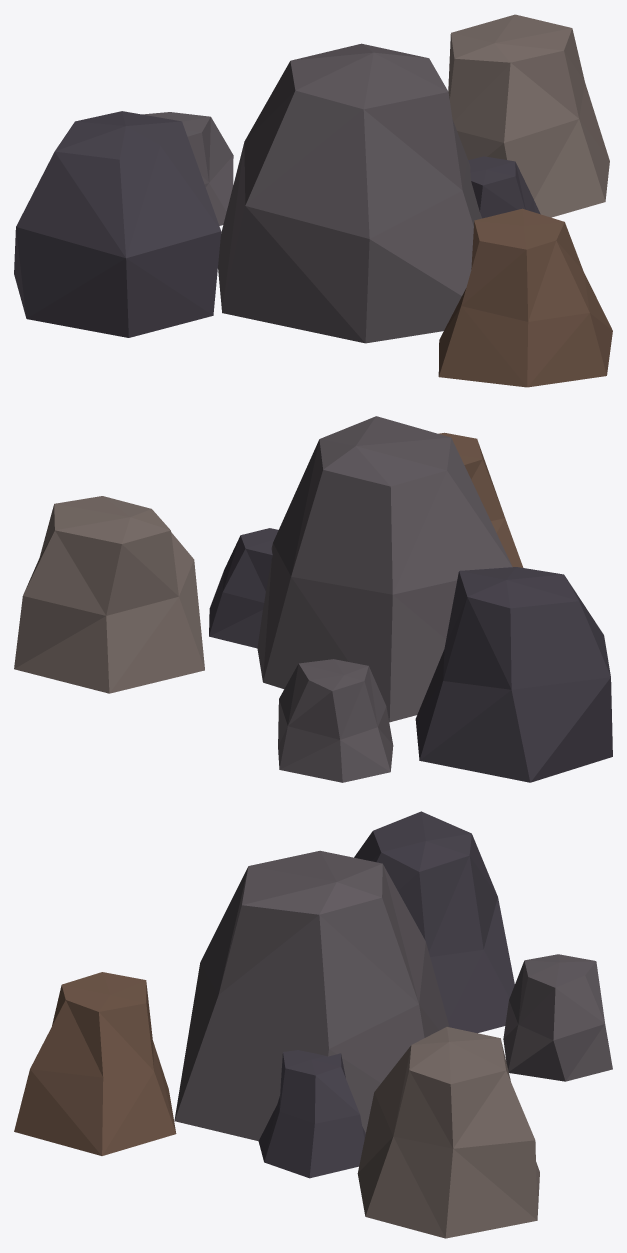
The model's file is rock_pile.fbx.
3 views of the same model, one above another, from view 1: azimuth 30°, elevation 25°; view 2: azimuth 150°, elevation 25°; view 3: azimuth 270°, elevation 25° (orthographic). The views are drawn at different scales.
Visible parts, largest first — view 1: rock_pile; view 2: rock_pile; view 3: rock_pile.
Part boxes in pixels (x1,y1,x2,y2): rock_pile: (14, 14, 612, 387); rock_pile: (14, 416, 612, 782); rock_pile: (14, 811, 612, 1238).
Size of the model in its own units: 2.53 by 0.882 by 2.21.
